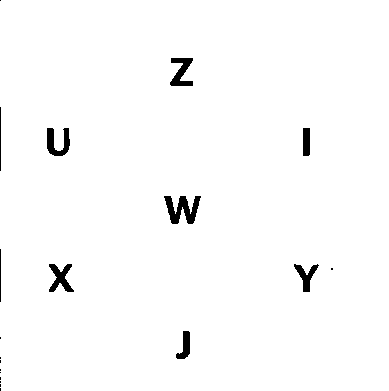I: (294, 121, 319, 165)
U: (43, 124, 76, 163)
